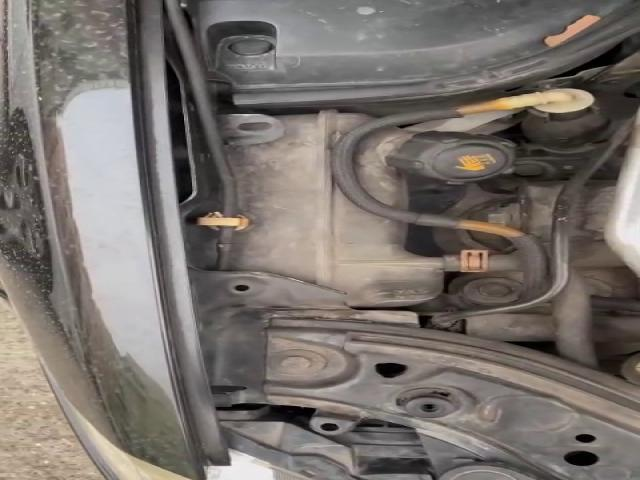antifreeze_tank: (230, 110, 442, 307), (356, 128, 515, 209)
